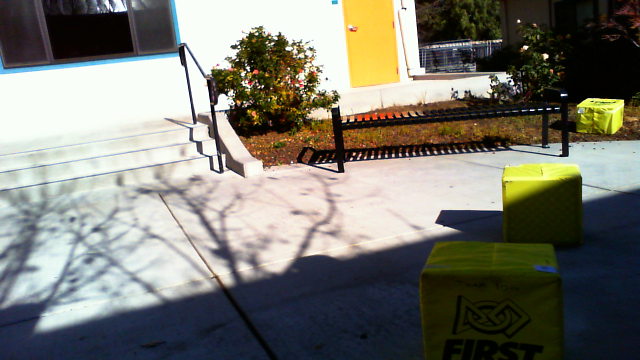cube: (419, 242, 564, 360), (503, 165, 584, 254), (575, 96, 624, 136)
